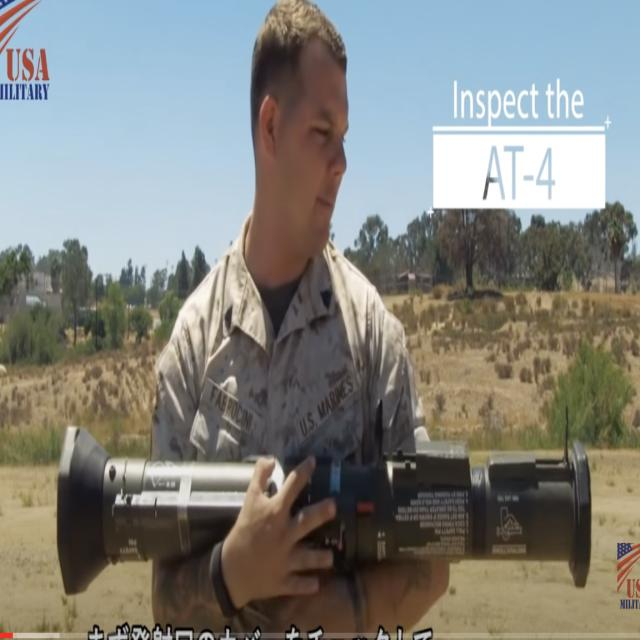bazooka: (51, 457, 599, 567)
